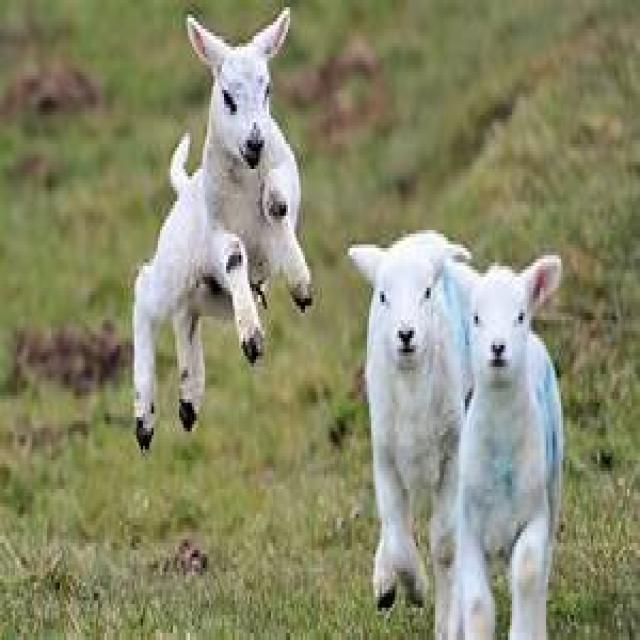animal: (130, 3, 312, 450), (346, 226, 476, 636), (442, 252, 563, 636)
